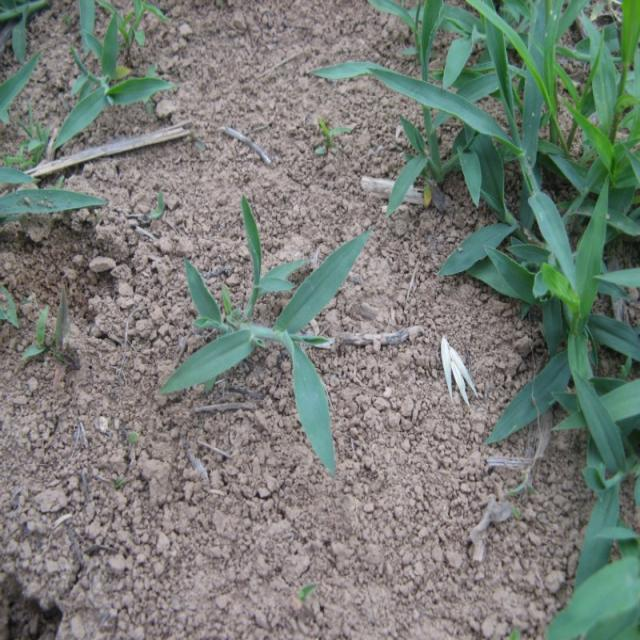bg: (161, 190, 370, 473)
